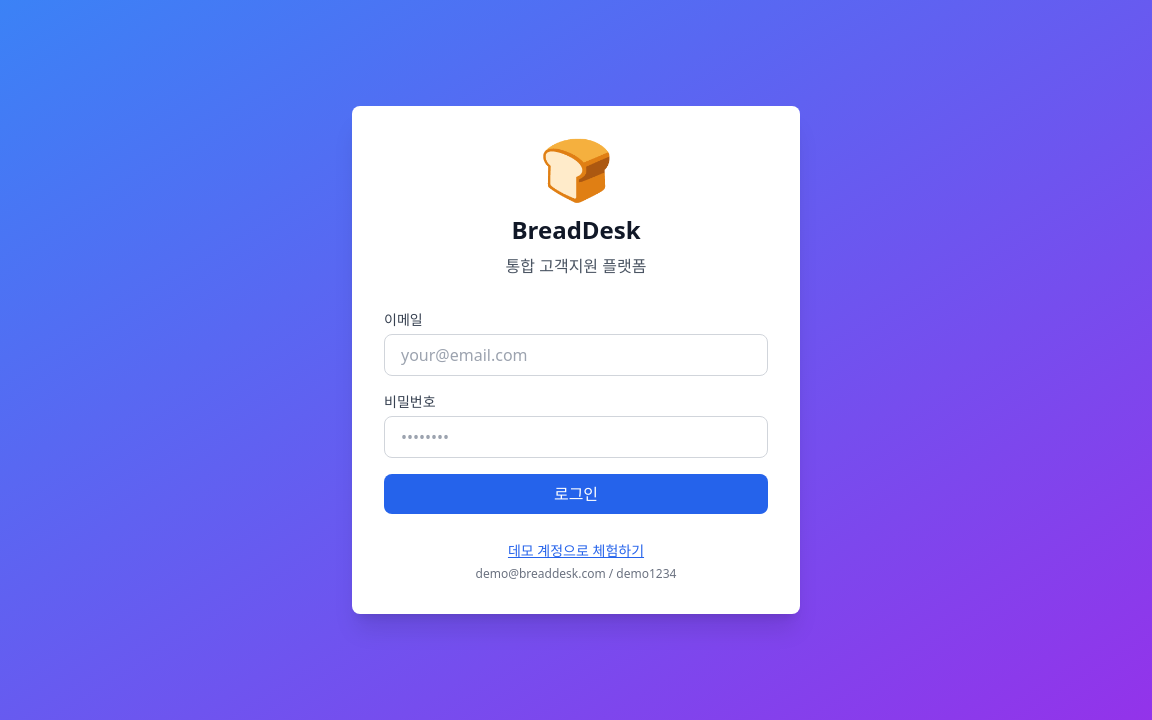
LoginPage › should fill demo credentials when demo button is clicked
Expected: the field labelled "이메일" is empty, [384,334,768,376]
Expected: the password field labelled "비밀번호" is empty, [384,416,768,458]
Click demo button
Click the button "데모 계정으로 체험하기" at (576, 551), box [508,541,644,561]
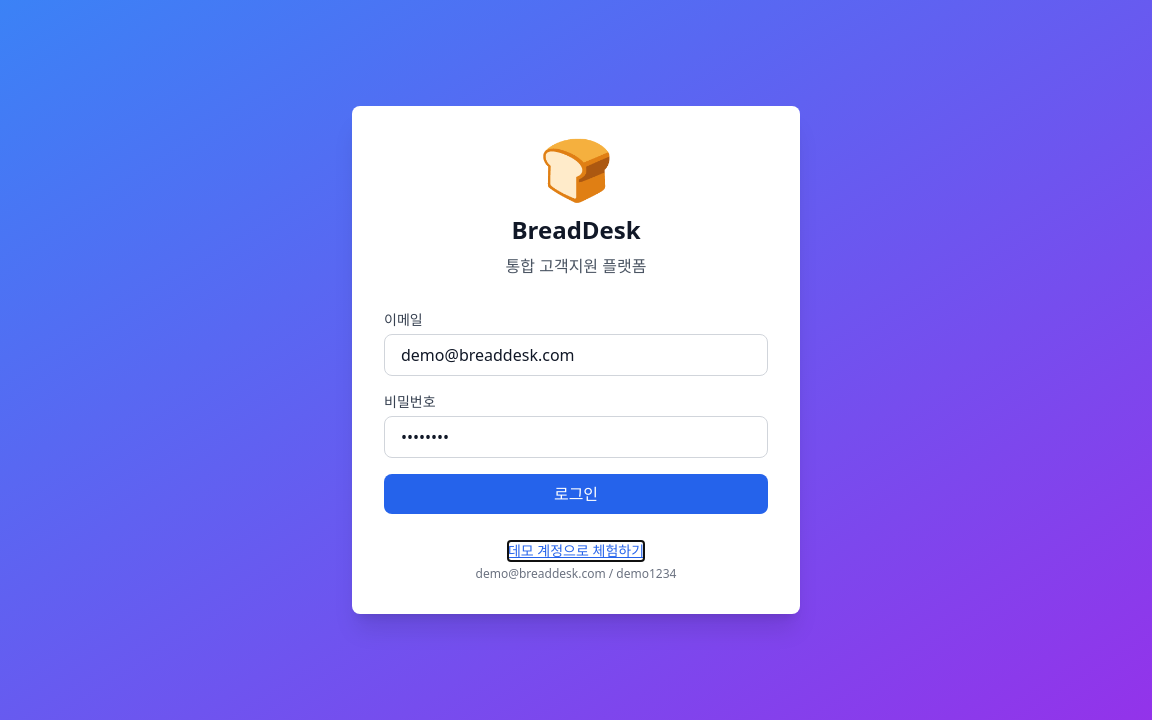
Result: the field labelled "이메일" holds "demo@breaddesk.com" at [384,334,768,376]
Result: the password field labelled "비밀번호" holds "demo1234" at [384,416,768,458]
